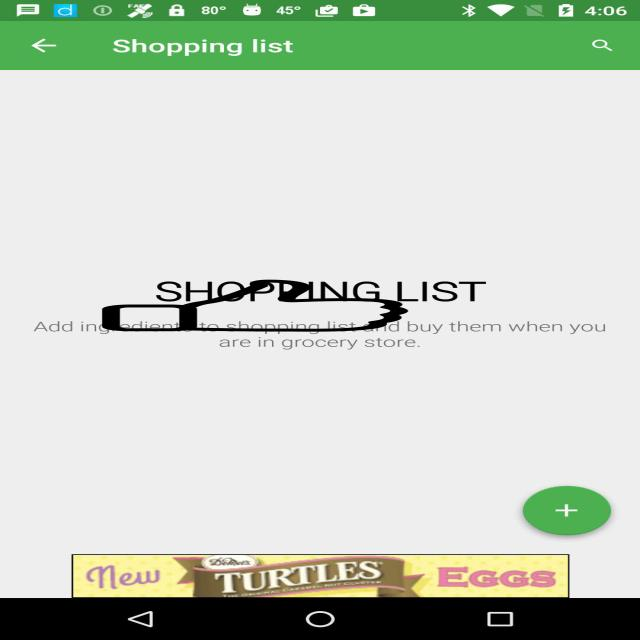privacy zuckering: (98, 280, 412, 332)
